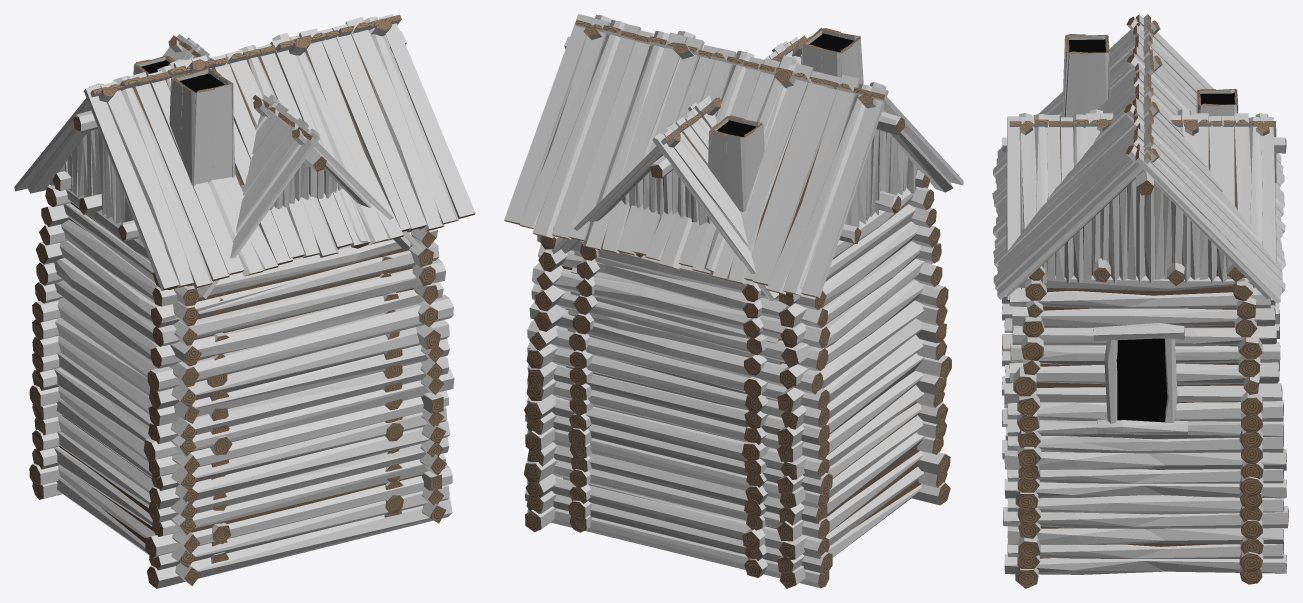
The model's file is FrontierCabin1.fbx.
3 renders of one model, left to right at view 1: azimuth 30°, elevation 25°; view 2: azimuth 150°, elevation 25°; view 3: azimuth 270°, elevation 25°, orthographic. The views are drawn at different scales.
Visible parts, largest first — view 1: Base.001, Roof.001, Roof.002, Chimney.001, Base.002, Plaster.001; view 2: Base.001, Roof.001, Base.002, Roof.002, Chimney.002, Chimney.001, Plaster.001; view 3: Base.001, Roof.001, Roof.002, Door.001, Chimney.001, Plaster.001, Chimney.002.
Boxes of the visible parts, bbox=[...] form: Base.001: bbox=[29, 181, 454, 588]; Roof.001: bbox=[14, 14, 475, 290]; Roof.002: bbox=[162, 34, 422, 298]; Chimney.001: bbox=[169, 68, 235, 185]; Base.002: bbox=[207, 253, 403, 571]; Plaster.001: bbox=[59, 35, 421, 542]; Base.001: bbox=[524, 182, 951, 588]; Roof.001: bbox=[504, 14, 963, 298]; Base.002: bbox=[563, 243, 782, 577]; Roof.002: bbox=[551, 35, 806, 300]; Chimney.002: bbox=[708, 115, 764, 211]; Chimney.001: bbox=[801, 27, 863, 84]; Plaster.001: bbox=[553, 46, 920, 528]; Base.001: bbox=[1002, 275, 1288, 588]; Roof.001: bbox=[992, 14, 1285, 304]; Roof.002: bbox=[1002, 109, 1286, 301]; Door.001: bbox=[1093, 323, 1187, 434]; Chimney.001: bbox=[1062, 34, 1110, 117]; Plaster.001: bbox=[1036, 183, 1245, 558]; Chimney.002: bbox=[1196, 88, 1238, 117].
Bounding box in the file's own units: 703 × 1167 × 861.
